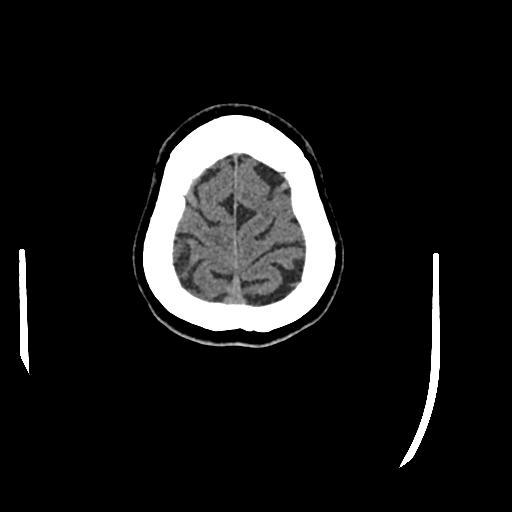Normal_Brain: (135, 106, 336, 359)
